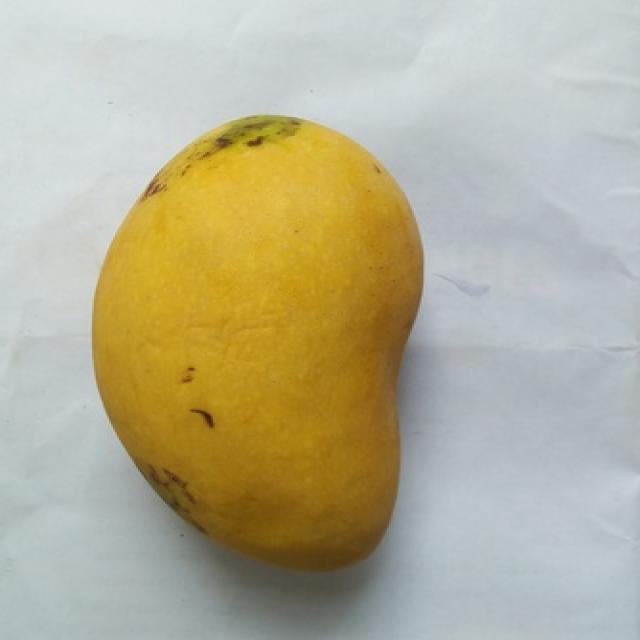Mango: (94, 115, 422, 570)
